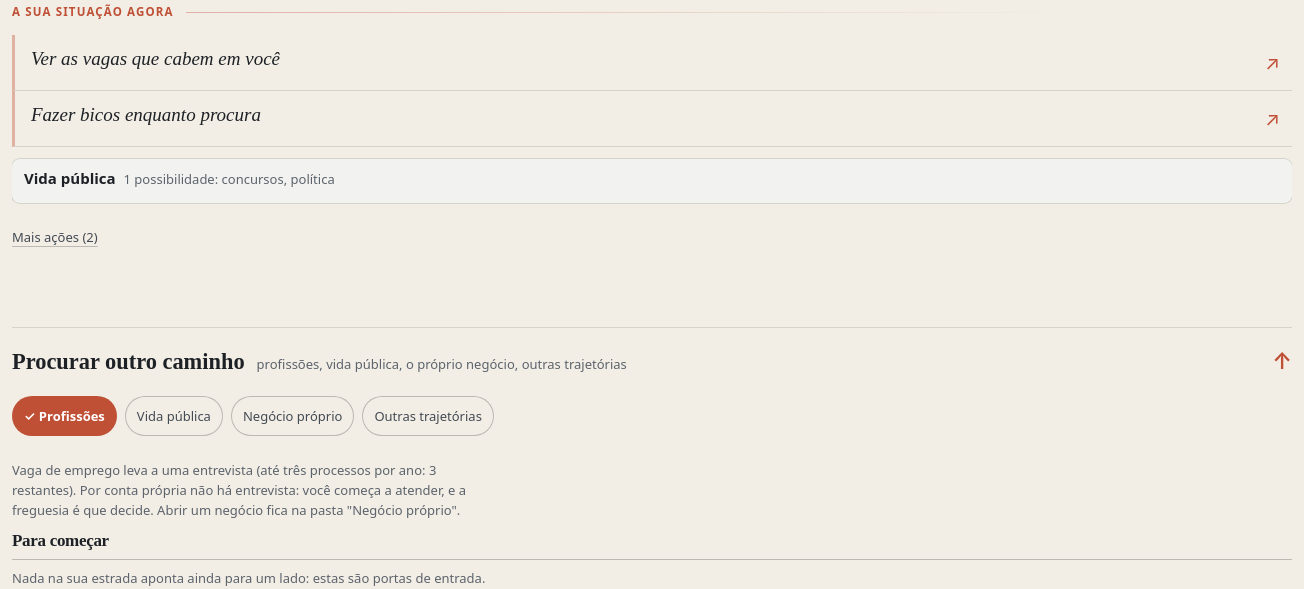
Test: Trabalho › "Outros caminhos": como começa cada vida, e a política é uma entre as outras
Click the radio button labelled "Outras trajetórias" at [428, 416], box [362, 396, 494, 436]
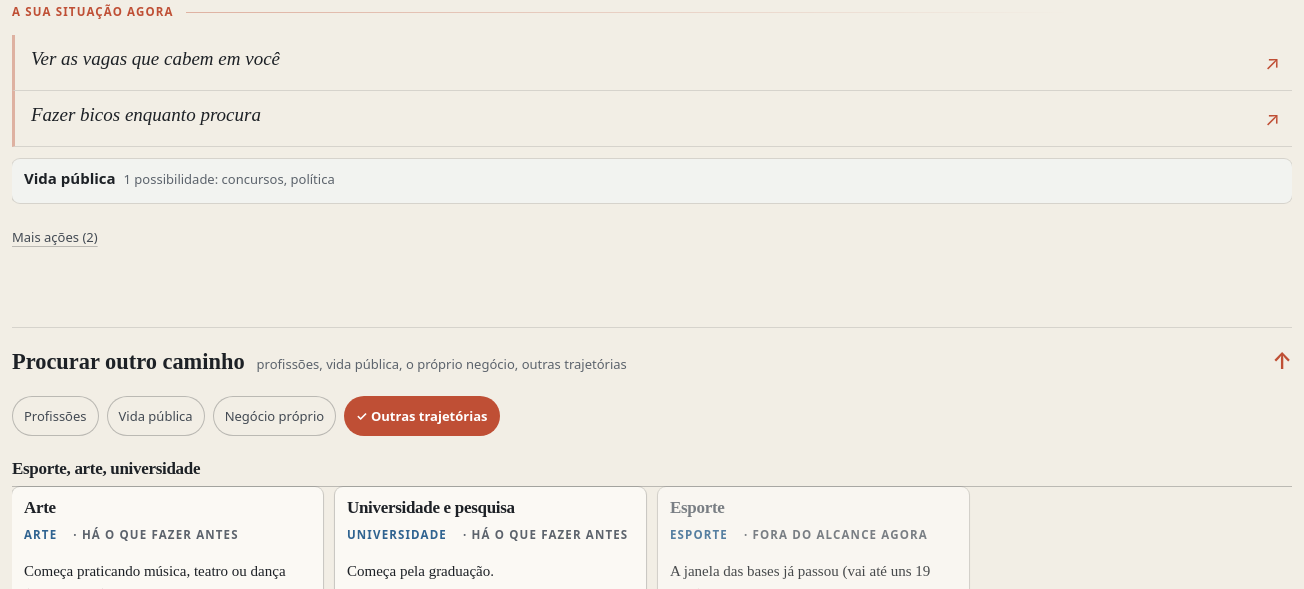
Result: the heading "Esporte" is shown at [670, 498, 724, 518]
Result: the heading "Arte" is shown at [24, 498, 56, 518]
Result: the heading "Universidade e pesquisa" is shown at [347, 498, 515, 518]
Click the radio button labelled "Vida pública" at [156, 416], box [106, 396, 205, 436]
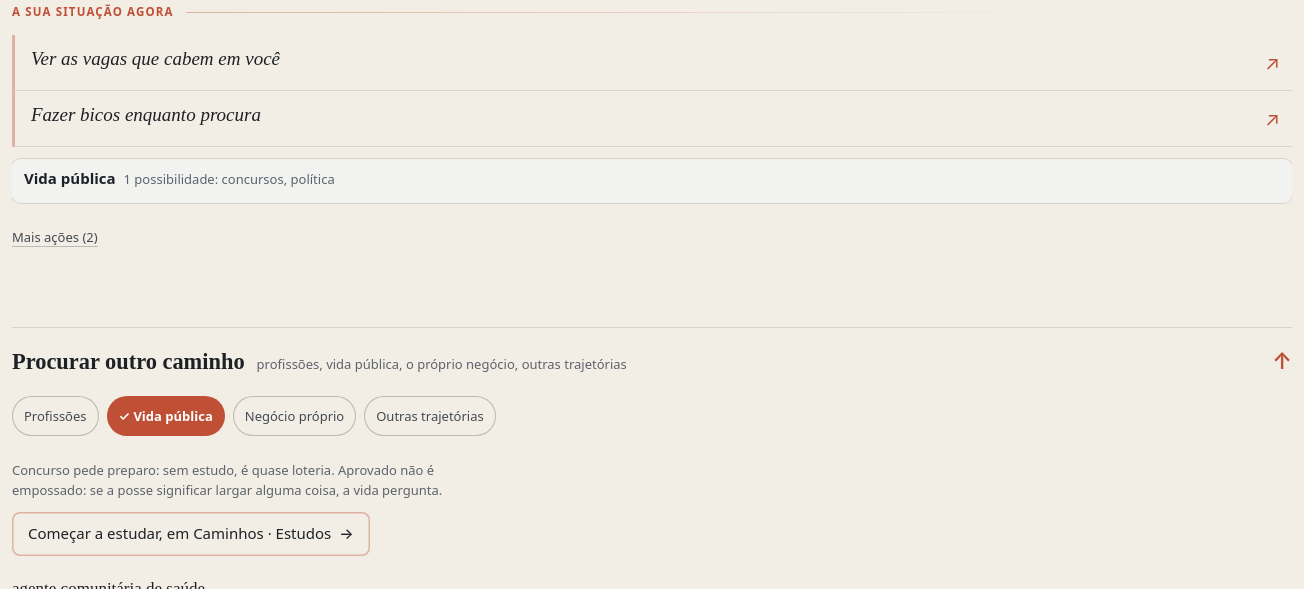
Click the radio button labelled "Negócio próprio" at [295, 416], box [233, 396, 356, 436]
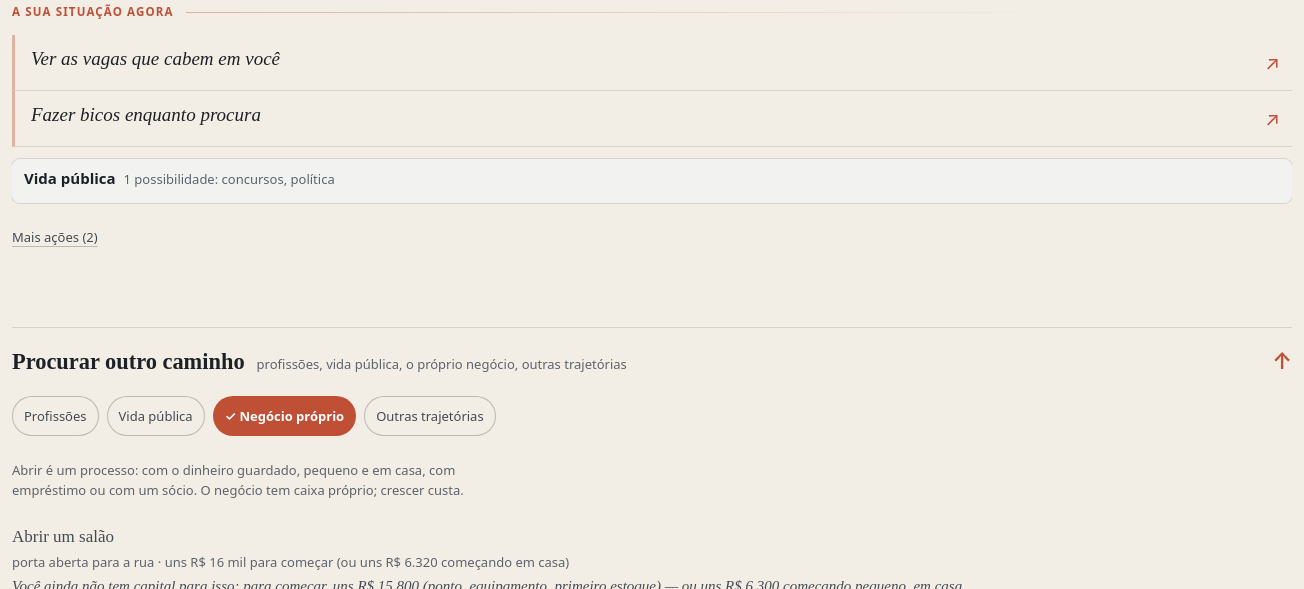
Click the radio button labelled "Profissões" at [55, 416], box [12, 396, 98, 436]
(page scrolled)
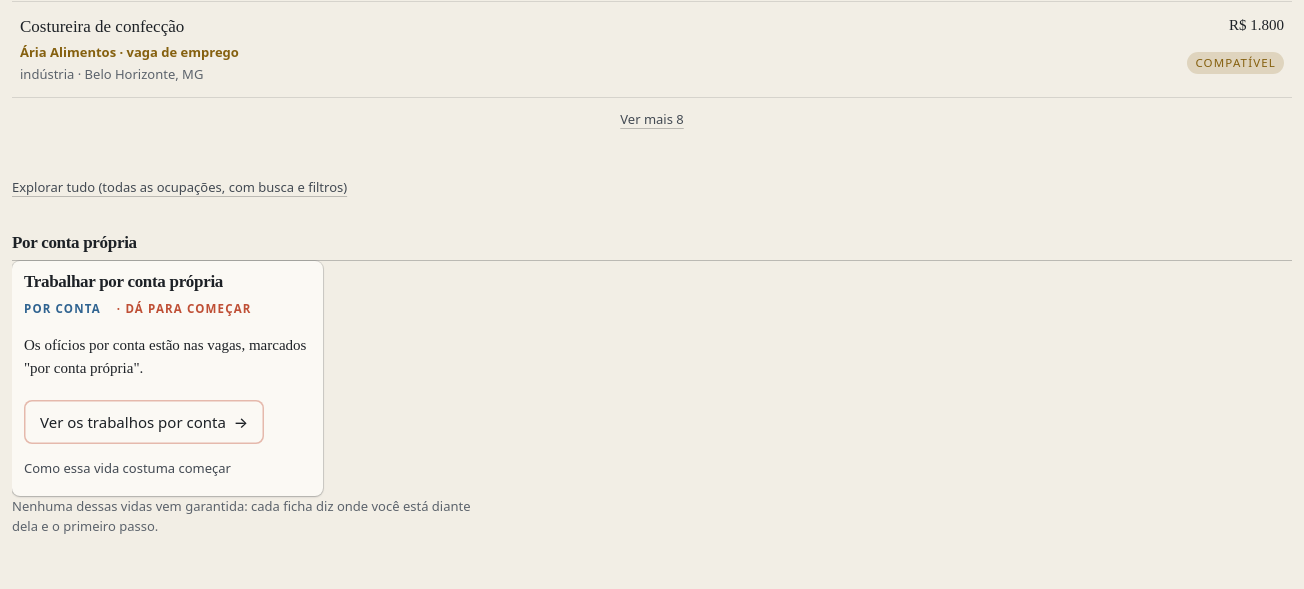
Result: the heading "Trabalhar por conta própria" is shown at [24, 272, 223, 291]
